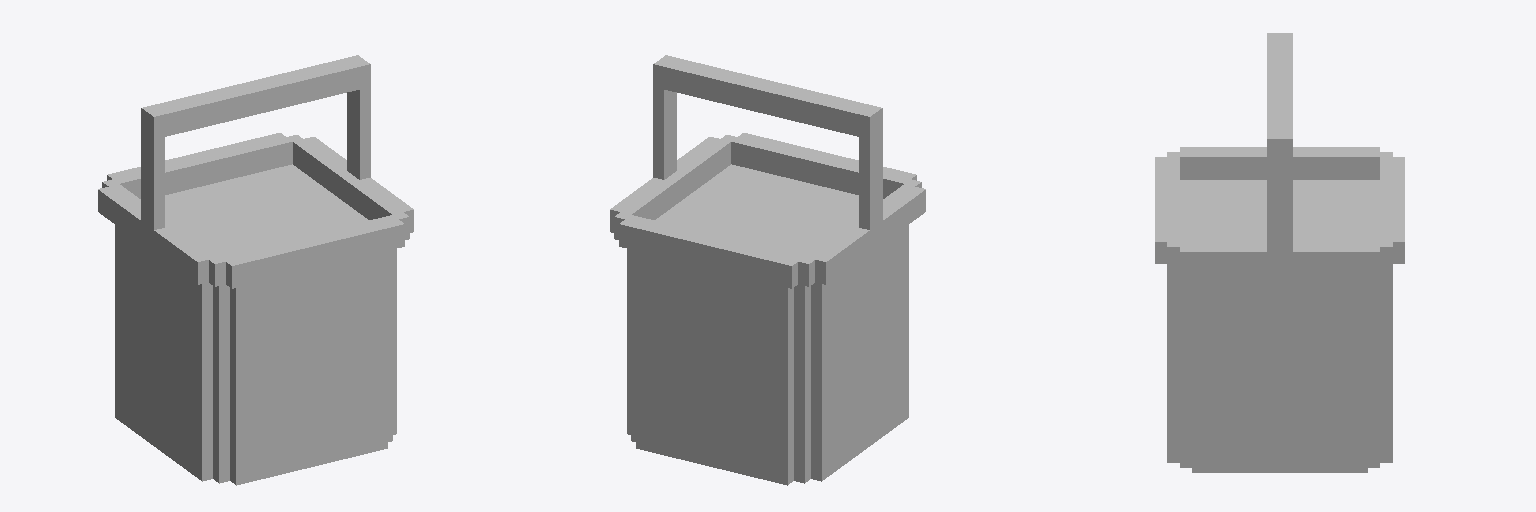
File: Paint Bucket.obj
The picture shows the model from 3 angles: view 1: azimuth 30°, elevation 25°; view 2: azimuth 150°, elevation 25°; view 3: azimuth 270°, elevation 25°; orthographic projection.
Parts seen in each view (by area): view 1: object 1; view 2: object 1; view 3: object 1.
Part boxes in pixels (left/top/right/bottom): object 1: left=98, top=55, right=413, bottom=485; object 1: left=610, top=55, right=925, bottom=485; object 1: left=1155, top=33, right=1404, bottom=472.
Size of the model in its own units: 2 by 3 by 2.